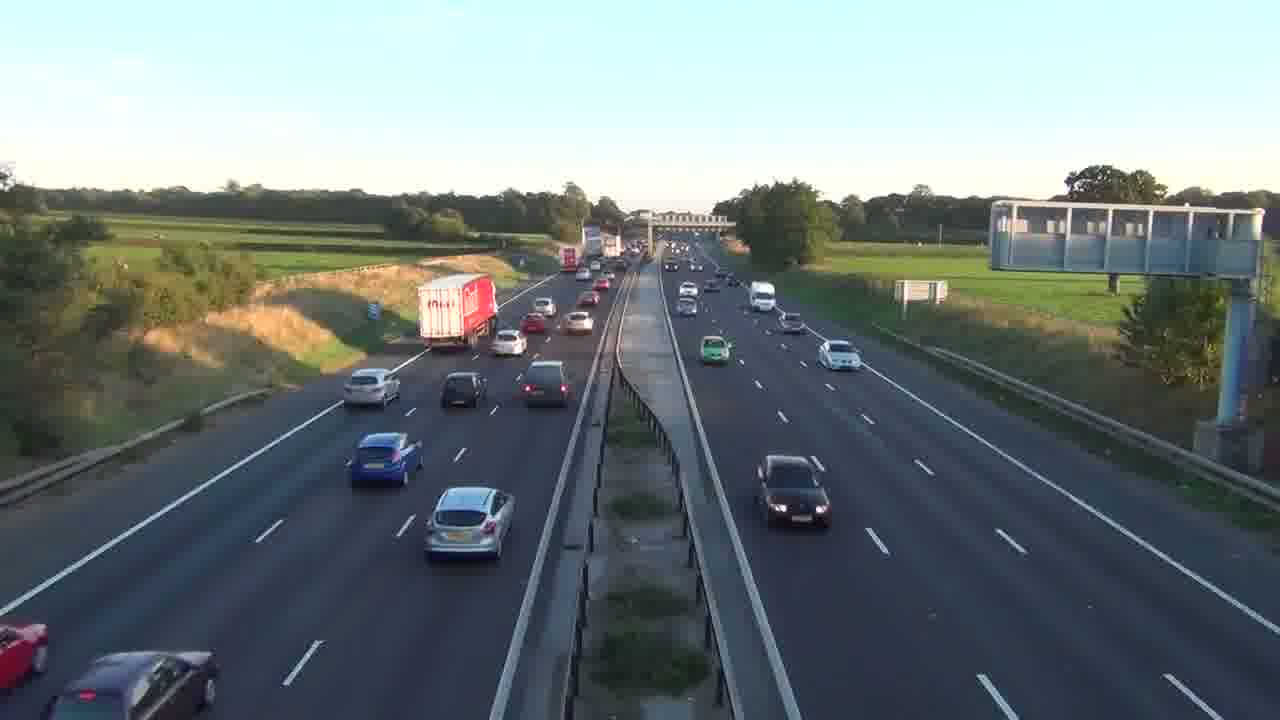car: (42, 648, 221, 719), (422, 485, 516, 564), (754, 453, 833, 528), (347, 431, 423, 487), (515, 360, 573, 408), (342, 367, 401, 407), (440, 370, 486, 408), (817, 339, 862, 372), (698, 335, 733, 366), (561, 311, 594, 335)
truck: (416, 272, 499, 350), (749, 280, 775, 311)
